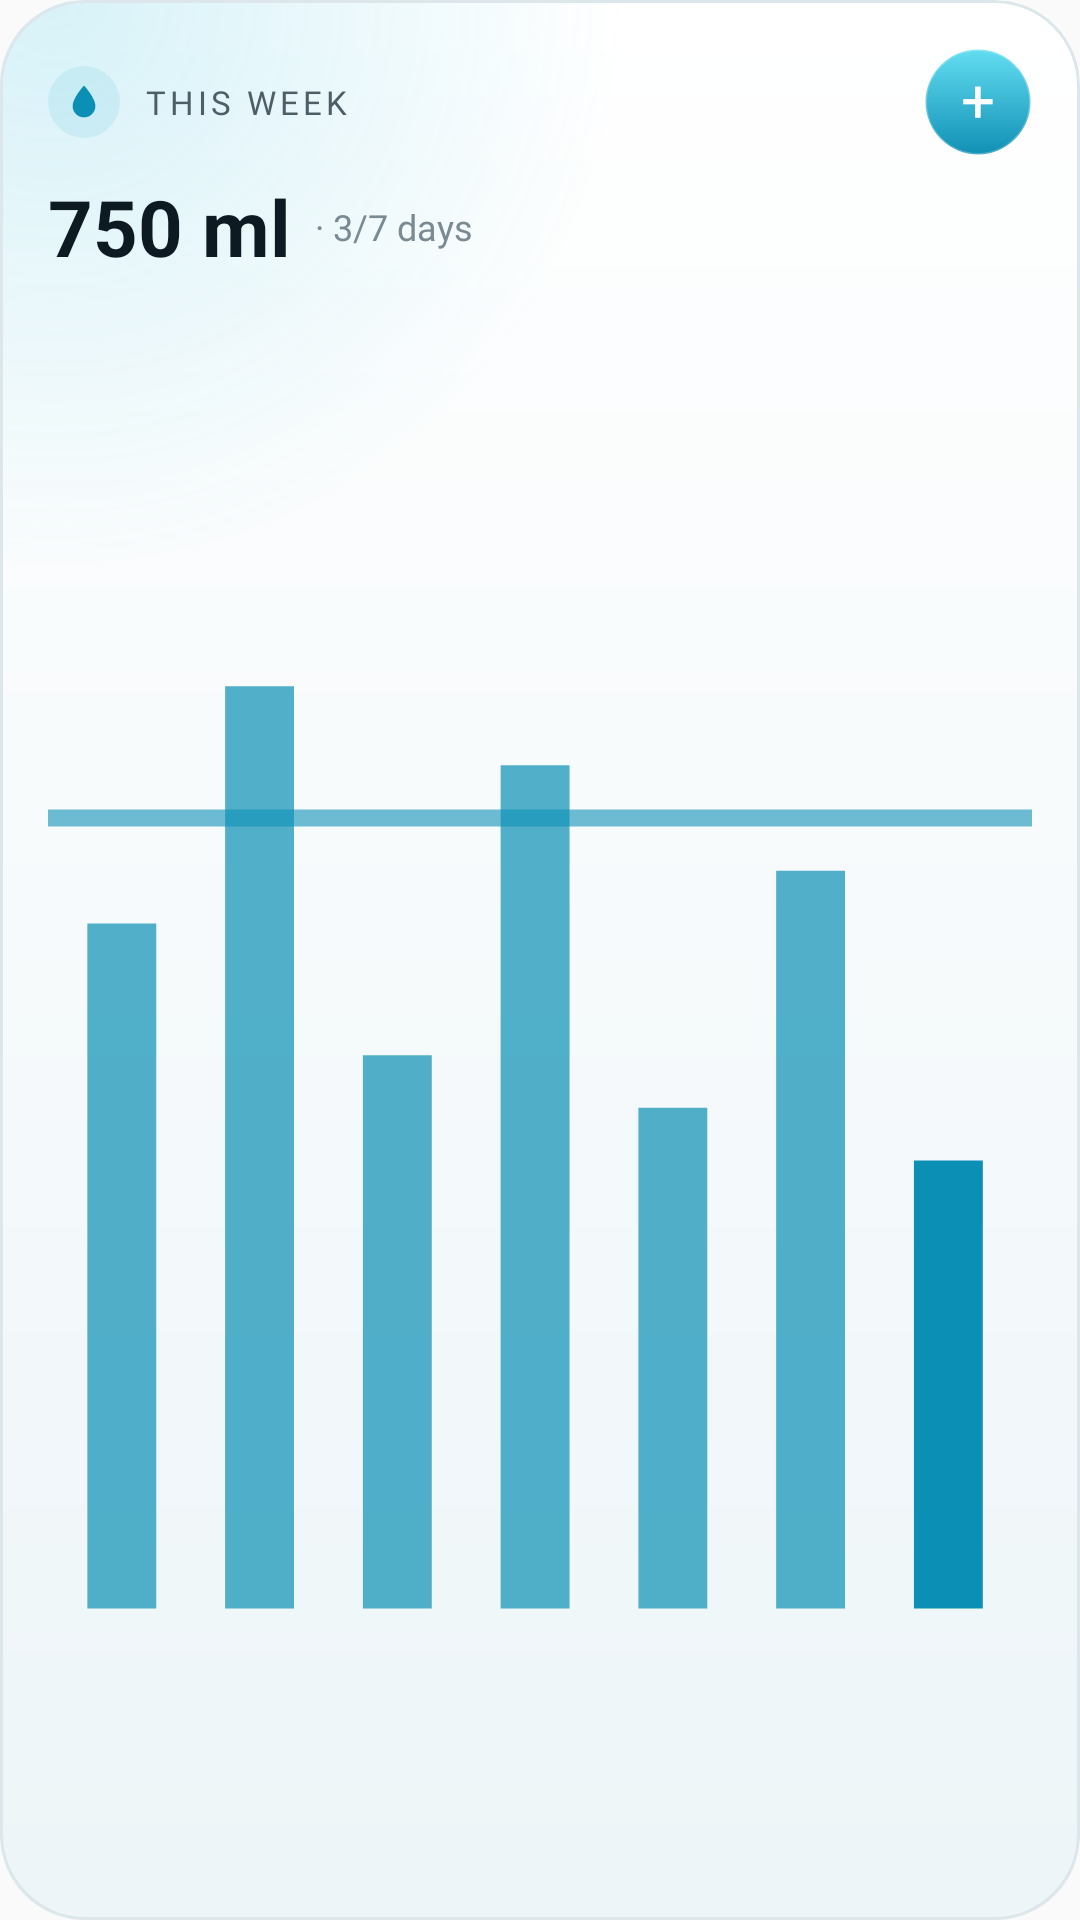

Locate icon controls on the screen. Image size 1080x1920, boxes as {"x1": x1, "y1": y1, "x2": x2, "y2": y2}.
widget drop: {"x1": 72, "y1": 85, "x2": 96, "y2": 118}
